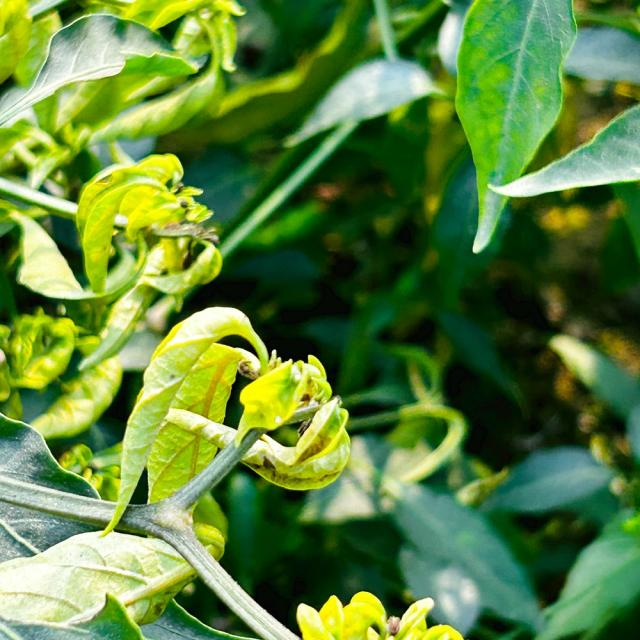Chilli_Leaf_Curl: (1, 1, 638, 638), (1, 304, 350, 638), (0, 409, 231, 636), (98, 304, 269, 538), (8, 151, 219, 304), (452, 0, 578, 253), (0, 523, 223, 638), (0, 11, 200, 129), (234, 352, 352, 492), (485, 101, 639, 199), (281, 55, 443, 148), (294, 589, 464, 639)
